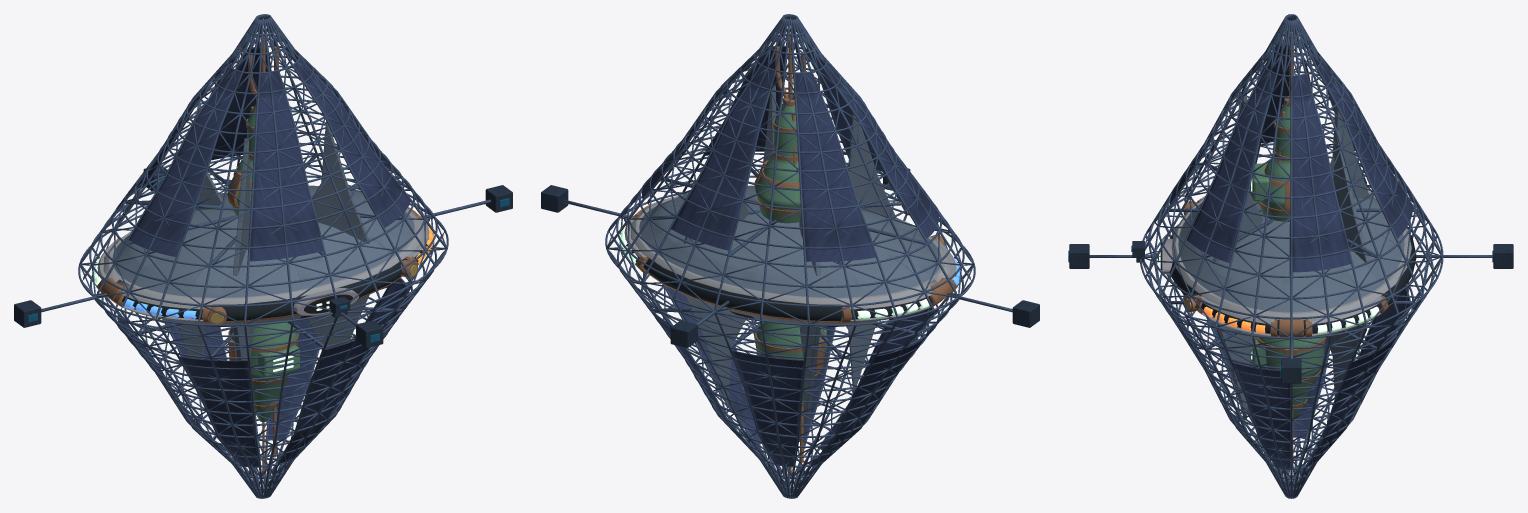
3 views of the same model, side by side, from view 1: azimuth 30°, elevation 25°; view 2: azimuth 150°, elevation 25°; view 3: azimuth 270°, elevation 25° (orthographic).
Parts seen in each view (by area): view 1: RI4C construction meridian ribs, RI4C construction elliptical hoops, RI4C construction diagonal lattice, Observatory saucer pressure hull, RI4C temporary conical shield 8, RI4C temporary conical shield 6, RI4C temporary conical shield 7, RI4C temporary conical shield 10, RI4C equatorial equipment band 2, RI4C temporary conical shield 9, Observatory pointed fin 1 3, Observatory axial green chambers (+17 smaller); view 2: RI4C construction meridian ribs, RI4C construction elliptical hoops, RI4C construction diagonal lattice, Observatory saucer pressure hull, RI4C temporary conical shield 4, RI4C temporary conical shield 2, RI4C temporary conical shield 3, Observatory axial green chambers, RI4C equatorial equipment band 0, RI4C equatorial equipment band 2, RI4C temporary conical shield 6, RI4C temporary conical shield 5 (+16 smaller); view 3: RI4C construction meridian ribs, RI4C construction elliptical hoops, RI4C construction diagonal lattice, Observatory saucer pressure hull, RI4C temporary conical shield 0, RI4C temporary conical shield 10, Observatory axial green chambers, RI4C temporary conical shield 11, RI4C temporary conical shield 2, RI4C equatorial equipment band 2, RI4C temporary conical shield 1, RI4C equatorial equipment band 0 (+16 smaller).
Part boxes in pixels (x1,y1,x2,y2): RI4C construction meridian ribs: (80,14,447,498); RI4C construction elliptical hoops: (78,27,448,489); RI4C construction diagonal lattice: (80,27,446,487); Observatory saucer pressure hull: (112,187,414,326); RI4C temporary conical shield 8: (249,72,323,261); RI4C temporary conical shield 6: (128,69,240,256); RI4C temporary conical shield 7: (179,356,258,466); RI4C temporary conical shield 10: (294,58,410,227); RI4C equatorial equipment band 2: (103,208,423,304); RI4C temporary conical shield 9: (280,340,368,463); Observatory pointed fin 1 3: (312,121,370,244); Observatory axial green chambers: (229,103,297,421); RI4C construction meridian ribs: (606,14,973,498); RI4C construction elliptical hoops: (605,27,975,489); RI4C construction diagonal lattice: (607,27,973,487); Observatory saucer pressure hull: (639,186,941,326); RI4C temporary conical shield 4: (795,73,875,261); RI4C temporary conical shield 2: (671,66,774,250); RI4C temporary conical shield 3: (731,350,803,466); Observatory axial green chambers: (755,103,824,402); RI4C equatorial equipment band 0: (625,239,955,321); RI4C equatorial equipment band 2: (630,195,950,304); RI4C temporary conical shield 6: (824,63,938,238); RI4C temporary conical shield 5: (814,339,922,464); RI4C construction meridian ribs: (1144,14,1442,498); RI4C construction elliptical hoops: (1139,28,1443,490); RI4C construction diagonal lattice: (1142,31,1442,488); Observatory saucer pressure hull: (1178,196,1404,312); RI4C temporary conical shield 0: (1292,75,1351,272); RI4C temporary conical shield 10: (1186,69,1275,262); Observatory axial green chambers: (1258,104,1324,418); RI4C temporary conical shield 11: (1232,362,1290,468); RI4C temporary conical shield 2: (1318,61,1412,238); RI4C equatorial equipment band 2: (1171,192,1411,319); RI4C temporary conical shield 1: (1308,339,1394,465); RI4C equatorial equipment band 0: (1169,233,1416,335).
Bounding box in the file's own units: 6.64 × 6.22 × 5.24.
15 materials, 7 textured.
